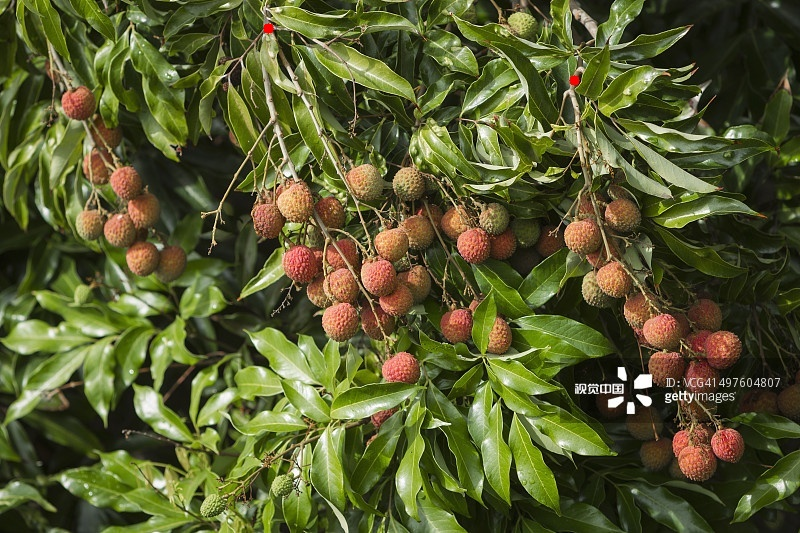litchi: (254, 167, 561, 379), (564, 196, 743, 364), (63, 91, 183, 276)
stem: (567, 40, 587, 135), (260, 65, 279, 127), (48, 38, 71, 89)
